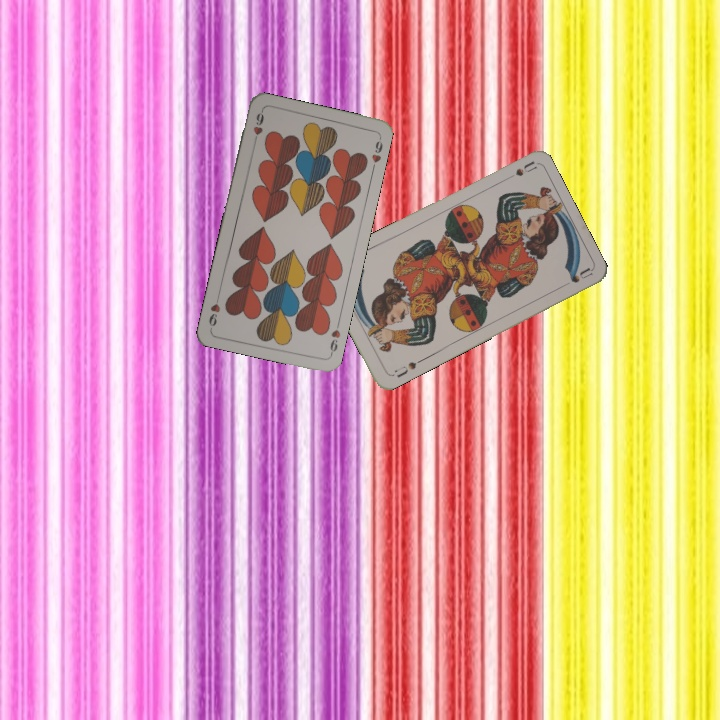H9: (249, 107, 267, 147), (326, 318, 343, 358)
SU: (499, 157, 538, 184), (390, 355, 425, 380)
